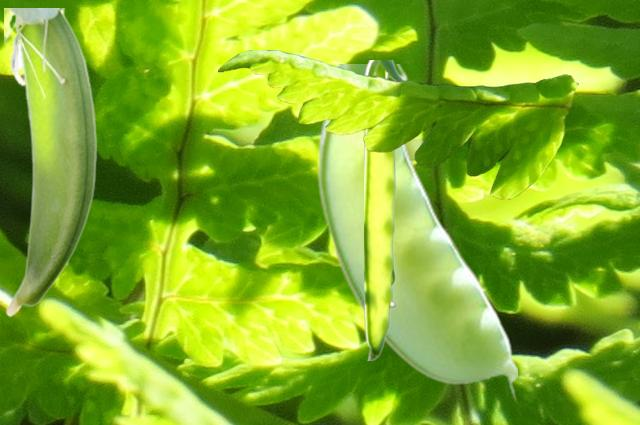pea: (316, 64, 516, 402), (4, 8, 99, 316), (364, 60, 404, 359)
